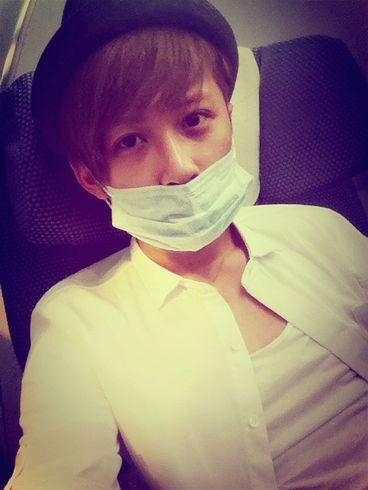face_mask: (97, 37, 234, 252)
